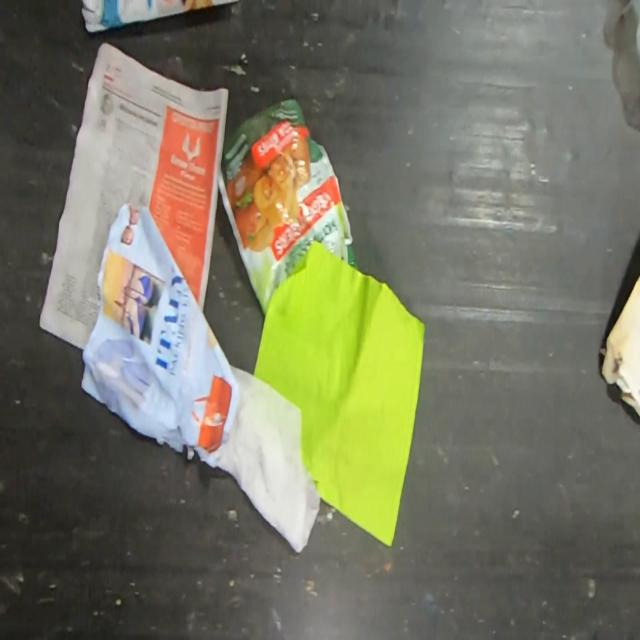cardboard: (600, 272, 640, 420)
soft_plastic: (216, 98, 360, 319)
